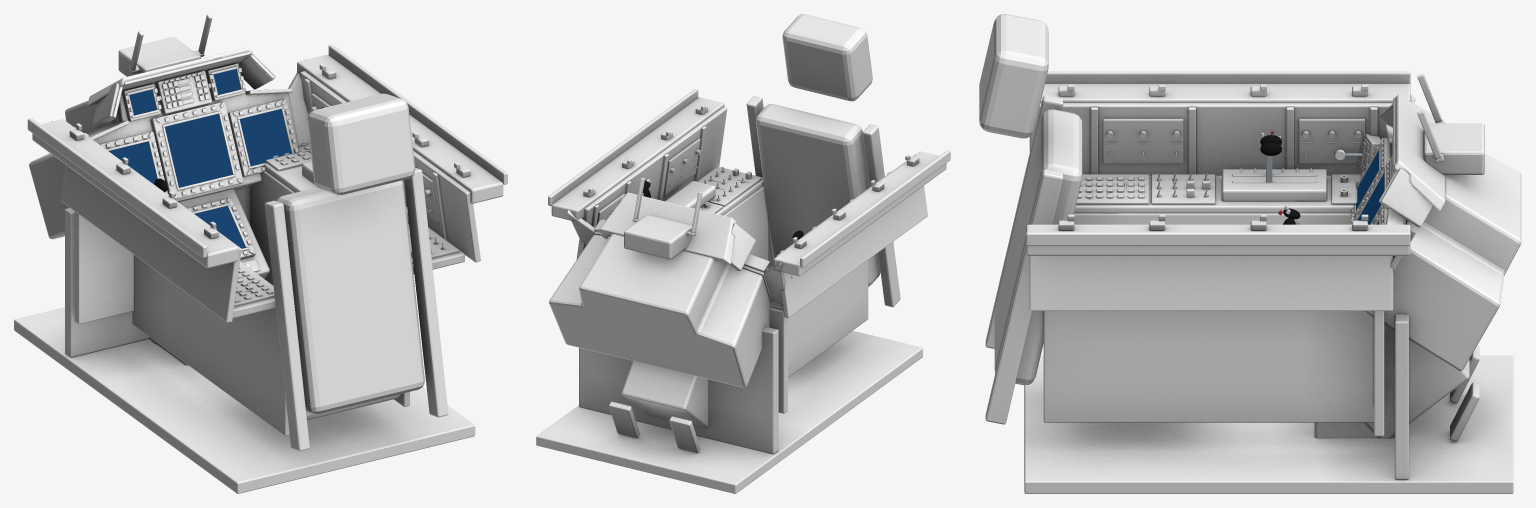
Rendered from f22_cockpit.glb.
3 views of the same model, side by side, from view 1: azimuth 30°, elevation 25°; view 2: azimuth 150°, elevation 25°; view 3: azimuth 270°, elevation 25° (orthographic). The views are drawn at different scales.
Visible parts, largest first — view 1: Cockpit_Static, Screen_PMFD, Screen_SMFD_R, Screen_SMFD_L, Screen_SMFD_C; view 2: Cockpit_Static; view 3: Cockpit_Static.
Part boxes in pixels (bbox=[...]): Cockpit_Static: bbox=[14, 14, 507, 493]; Screen_PMFD: bbox=[165, 114, 232, 187]; Screen_SMFD_R: bbox=[239, 109, 291, 166]; Screen_SMFD_L: bbox=[109, 141, 156, 184]; Screen_SMFD_C: bbox=[195, 206, 245, 248]; Cockpit_Static: bbox=[536, 14, 950, 493]; Cockpit_Static: bbox=[979, 14, 1521, 493].
Size of the model in its own units: 1.1 by 1.28 by 1.55.
27 materials, 15 textured.
